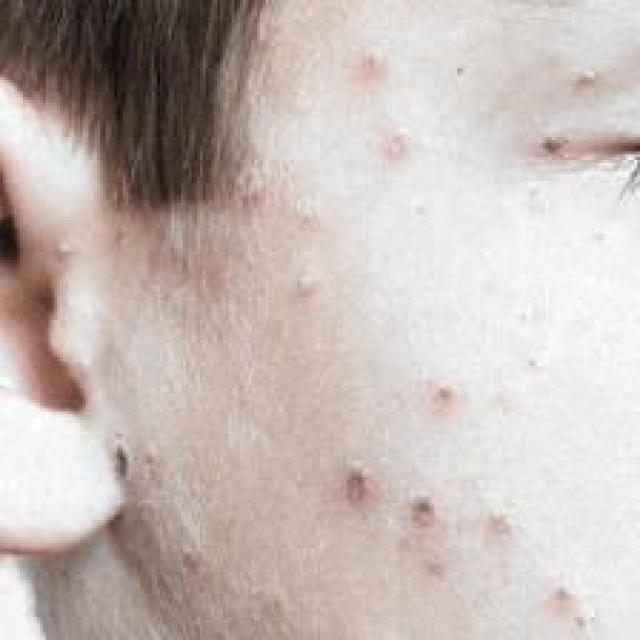others: (203, 53, 640, 640)
